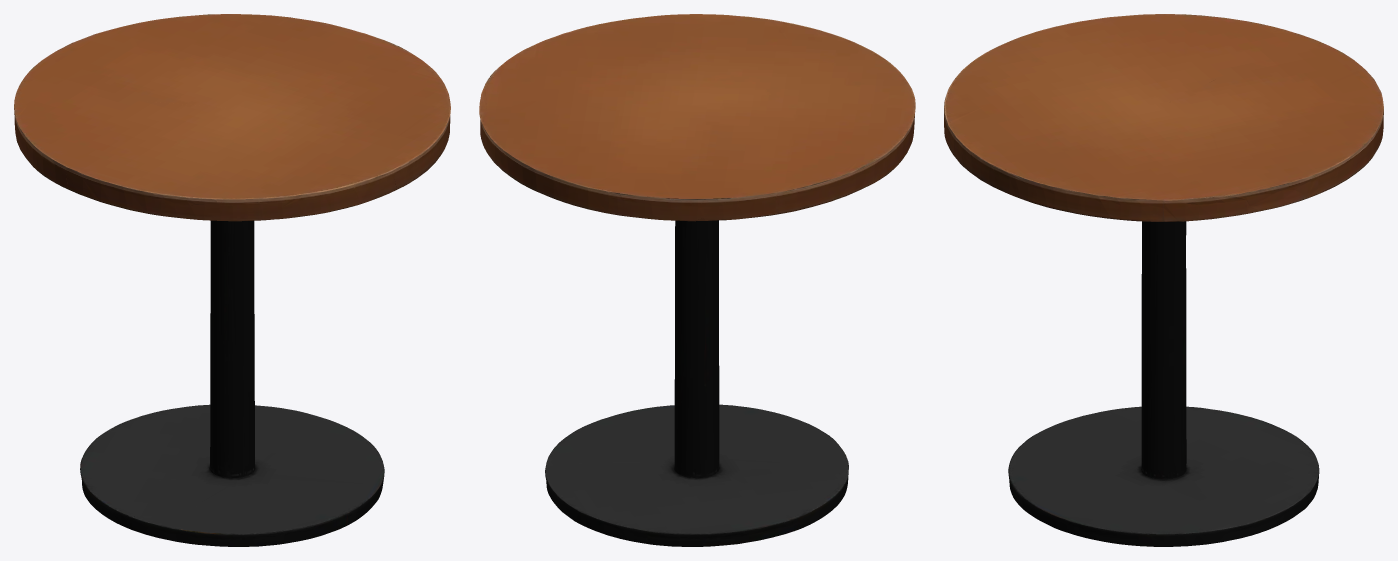
The model's file is table_pedestal_round_wood_2.glb.
3 views of the same model, side by side, from view 1: azimuth 30°, elevation 25°; view 2: azimuth 150°, elevation 25°; view 3: azimuth 270°, elevation 25° (orthographic).
Parts seen in each view (by area): view 1: geometry_0; view 2: geometry_0; view 3: geometry_0.
Boxes of the visible parts, x1,y1,x2,y2 form: geometry_0: [14, 14, 450, 546]; geometry_0: [479, 14, 915, 546]; geometry_0: [944, 14, 1383, 546].
Bounding box in the file's own units: 0.9994 × 0.946 × 0.9999.
1 material, 1 textured.
